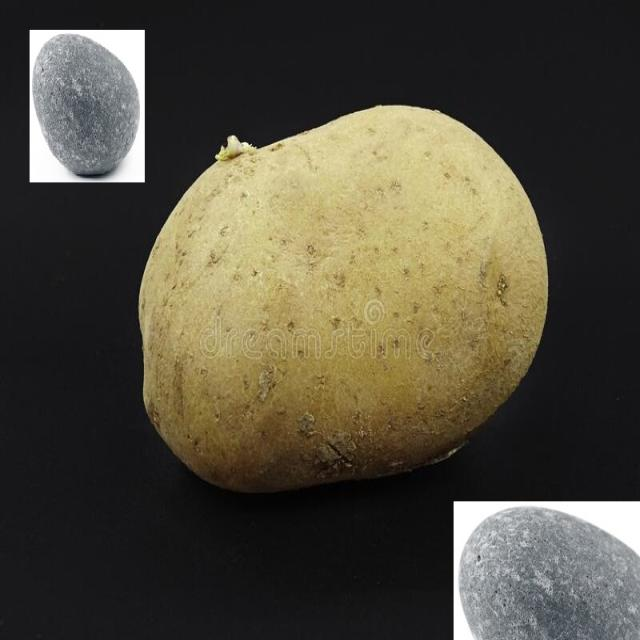potato: (138, 104, 550, 486)
